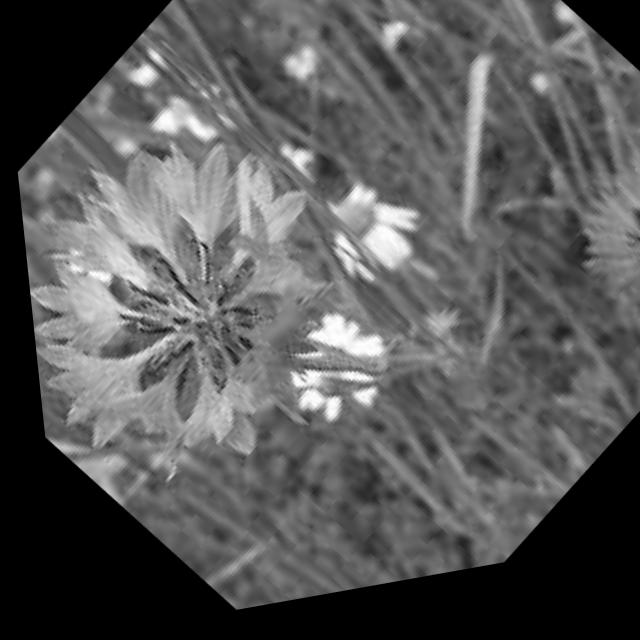Flower: (9, 68, 384, 515), (285, 156, 445, 322), (252, 284, 408, 449), (539, 139, 640, 370)
